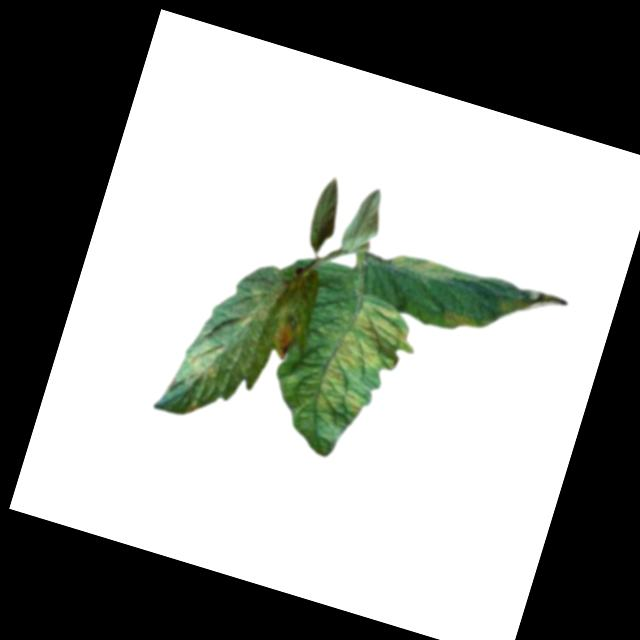Leaf_Mold: (291, 283, 425, 446), (386, 247, 481, 297), (234, 270, 297, 342), (493, 278, 573, 334), (180, 333, 229, 389), (436, 303, 488, 340), (269, 308, 305, 360)
